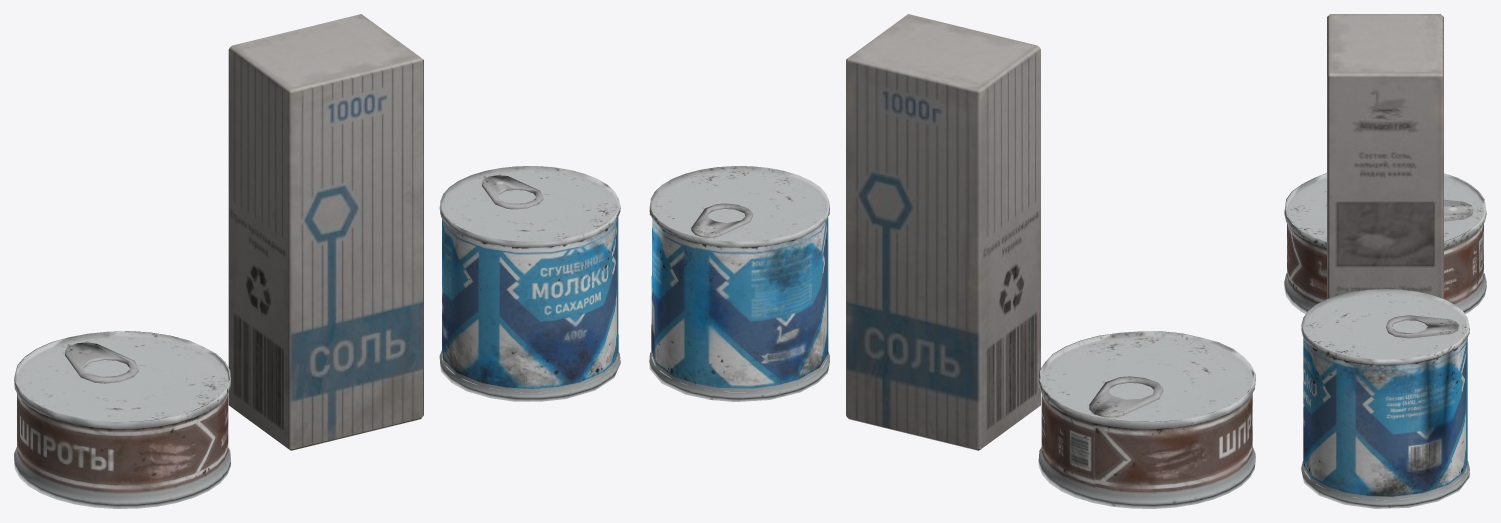
Rendered from russian_food_cans_01.gltf.
The picture shows the model from 3 angles, left to right: view 1: azimuth 30°, elevation 25°; view 2: azimuth 150°, elevation 25°; view 3: azimuth 270°, elevation 25°; orthographic projection. The views are drawn at different scales.
Parts seen in each view (by area): view 1: russian_food_cans_01; view 2: russian_food_cans_01; view 3: russian_food_cans_01.
Part boxes in pixels (x1=…): russian_food_cans_01: x1=14, y1=14, x2=620, y2=508; russian_food_cans_01: x1=649, y1=14, x2=1255, y2=508; russian_food_cans_01: x1=1284, y1=14, x2=1486, y2=508.
Bounding box in the file's own units: 0.1424 × 0.0849 × 0.0462.
Materials: 1 (1 with a texture image).
